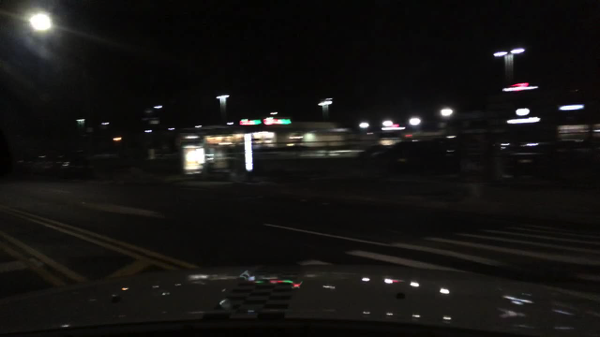car: (504, 140, 589, 183), (425, 132, 485, 176), (376, 138, 428, 173), (353, 144, 389, 168)
